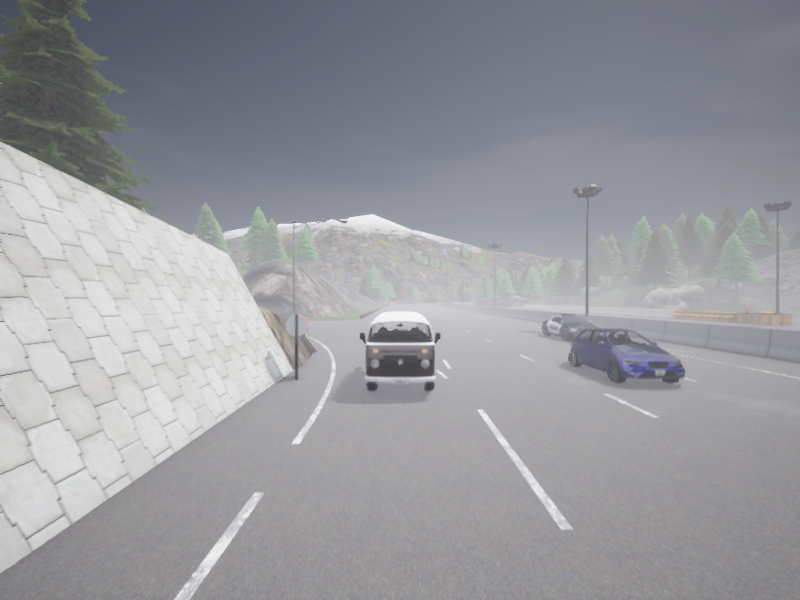vehicle: (360, 311, 440, 391), (569, 328, 685, 383), (541, 314, 598, 340), (448, 302, 452, 303)
